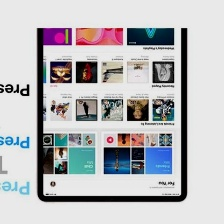phone: (33, 1, 190, 206)
